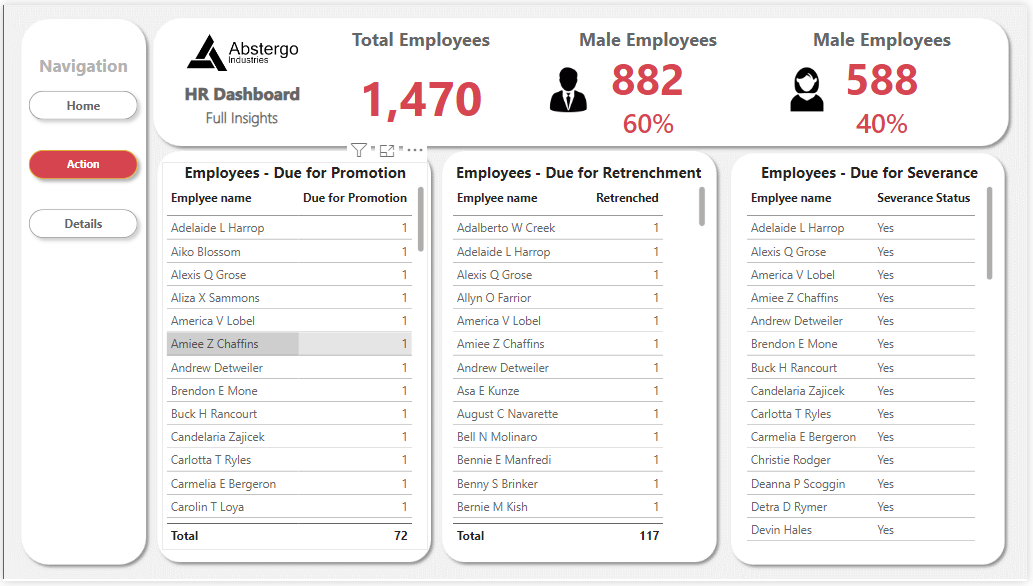

Layout of this report page (visuals, bound fields, positions):
{"tool":"powerbi","page":{"name":"Action","canvas":[1280,720],"ordinal":1},"visuals":[{"type":"textbox","box":[206.2,91.1,185.7,42.2],"z":0},{"type":"image","box":[217.6,27.3,162.9,63.8],"z":1000},{"type":"textbox","box":[239.2,123,119.6,43.3],"z":2000},{"type":"card","title":"Total Employees","fields":{"Values":["Measure Table._Total Employees"]},"box":[422.8,27,199.2,140.1],"z":3000},{"type":"card","title":"Male Employees","fields":{"Values":["Measure Table._Male Employees"]},"box":[706.3,27.3,199.4,95.7],"z":4000},{"type":"card","title":"Male Employees","fields":{"Values":["Measure Table._Male Emp %"]},"box":[758.7,127.4,96.1,39.4],"z":5000},{"type":"card","title":"Male Employees","fields":{"Values":["Measure Table._Female Employees"]},"box":[999.1,27.3,199.4,95.7],"z":6000},{"type":"card","title":"Male Employees","fields":{"Values":["Measure Table._Female Emp %"]},"box":[1058.8,127.4,79.9,39.4],"z":7000},{"type":"image","box":[673.3,69.5,66.1,71.8],"z":8000},{"type":"image","box":[972.9,69.5,64.9,71.8],"z":9000},{"type":"tableEx","title":"Employees - Due for Severance","fields":{"Values":["HR employee data.Emplyee name","HR Analytics Data.Severance Status"]},"box":[923.5,196.1,318.5,484.9],"z":10000},{"type":"tableEx","title":"Employees - Due for Promotion","fields":{"Values":["HR employee data.Emplyee name","Measure Table._Due for Promotion"]},"box":[198.5,196.1,332.8,484.9],"z":11000},{"type":"tableEx","title":"Employees - Due for Retrenchment","fields":{"Values":["HR employee data.Emplyee name","Measure Table._Retrenched"]},"box":[556.2,196.1,326.8,484.9],"z":12000},{"type":"pageNavigator","box":[21.6,96.8,158.4,206.2],"z":12001},{"type":"textbox","box":[21.6,55.8,158.4,37.6],"z":12002}]}

Visuals, with their boxes in screenshot pixels (x1, y1, x2, y2), scaled from the page's 1280x720 canvas onto the 1033x586 screenshot:
textbox: 166/74/316/108
image: 176/22/307/74
textbox: 193/100/290/135
"Total Employees" card: 341/22/502/136
"Male Employees" card: 570/22/731/100
"Male Employees" card: 612/104/690/136
"Male Employees" card: 806/22/967/100
"Male Employees" card: 854/104/919/136
image: 543/57/597/115
image: 785/57/838/115
"Employees - Due for Severance" tableEx: 745/160/1002/554
"Employees - Due for Promotion" tableEx: 160/160/429/554
"Employees - Due for Retrenchment" tableEx: 449/160/713/554
pageNavigator: 17/79/145/247
textbox: 17/45/145/76
